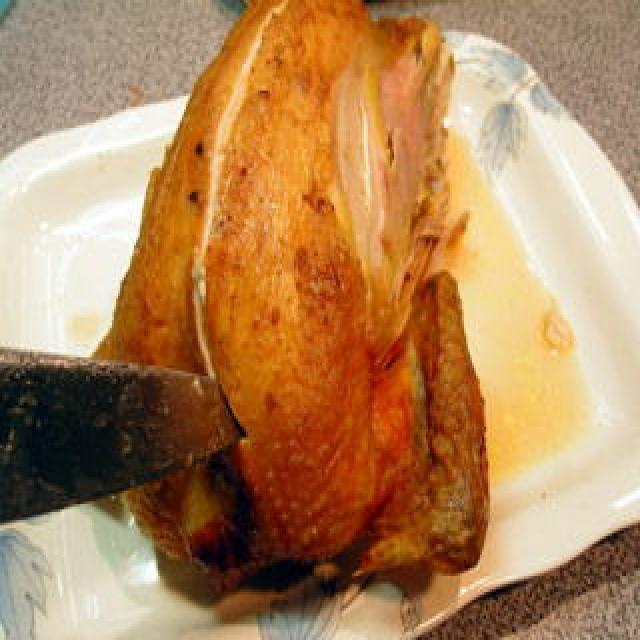Chicken roast: (100, 8, 502, 598)
